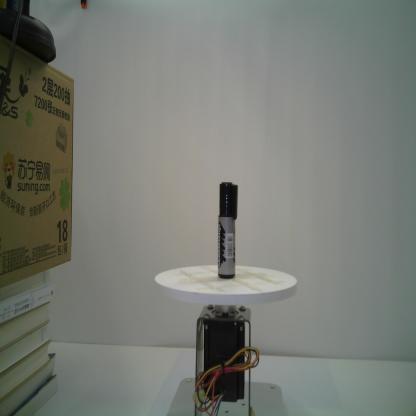Stationery: (217, 181, 238, 280)
